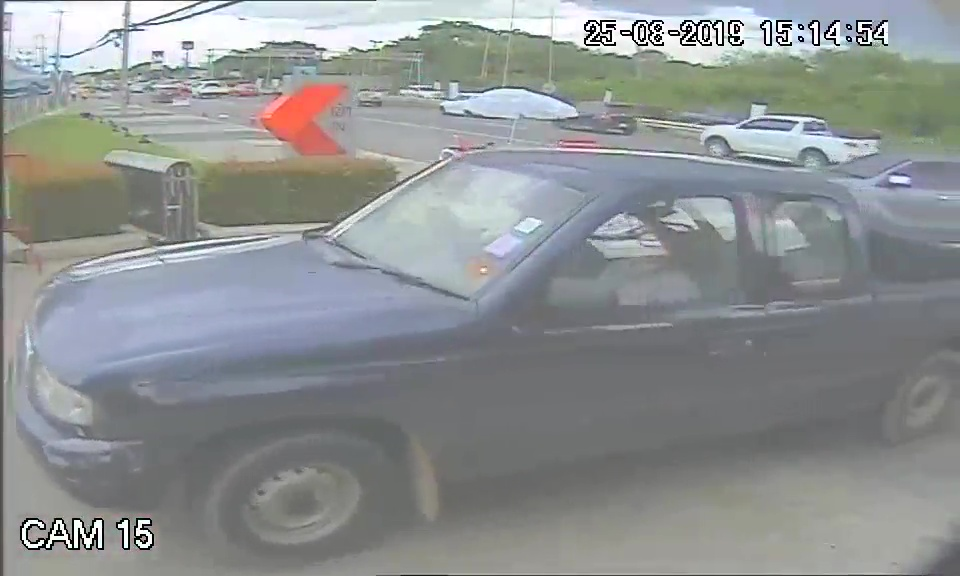pickup: (11, 143, 870, 523)
